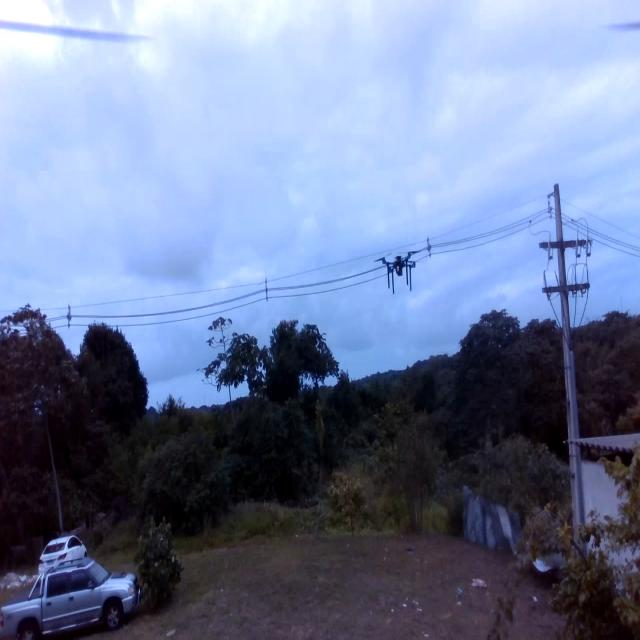-uav-: (370, 233, 424, 308)
